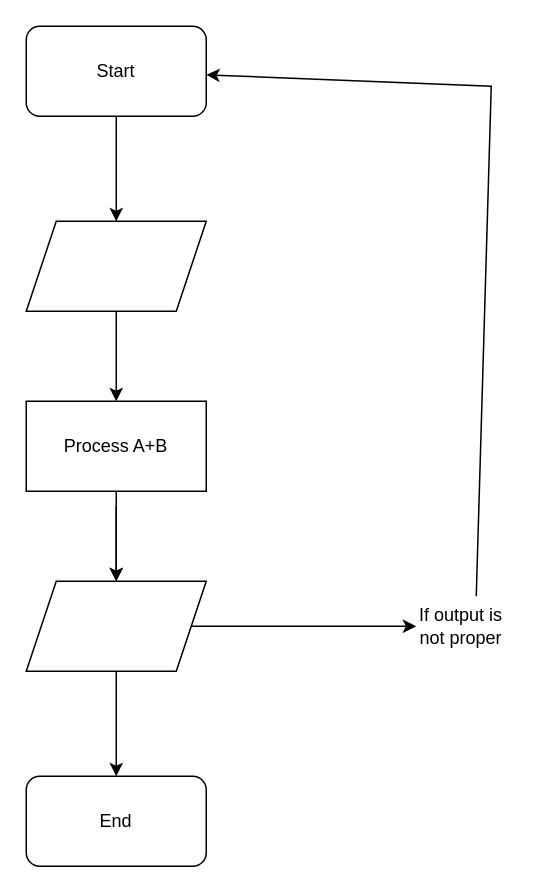
The diagram is 533 pixels wide and 893 high, and some of its shapes have lost their labels. The centre of each missing label's shape, as x and y in pixels:
"Input A and B" goes at point 115,265.
"Output" goes at point 115,625.
